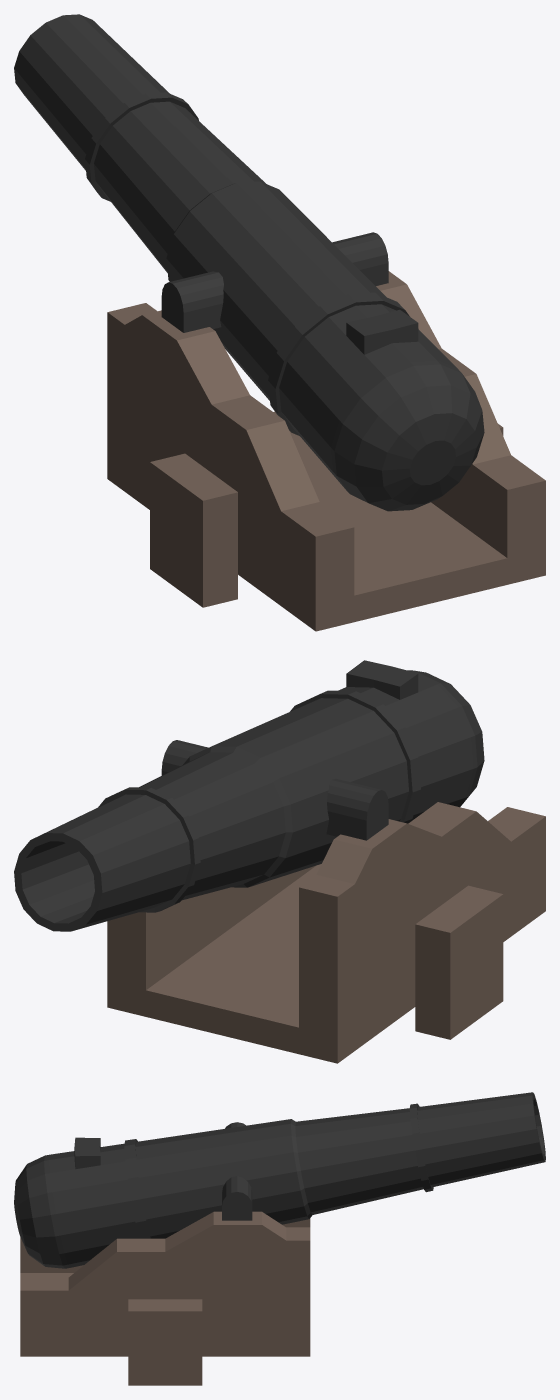
File: Ship Gun.fbx
3 renders of one model, top to bottom at view 1: azimuth 30°, elevation 25°; view 2: azimuth 150°, elevation 25°; view 3: azimuth 270°, elevation 25°, orthographic. The views are drawn at different scales.
Visible parts, largest first — view 1: Цилиндр.010; view 2: Цилиндр.010; view 3: Цилиндр.010.
Boxes of the visible parts, bbox=[...] form: Цилиндр.010: bbox=[14, 14, 545, 631]; Цилиндр.010: bbox=[14, 660, 545, 1063]; Цилиндр.010: bbox=[14, 1092, 545, 1385].
Size of the model in its own units: 288 by 314 by 634.
